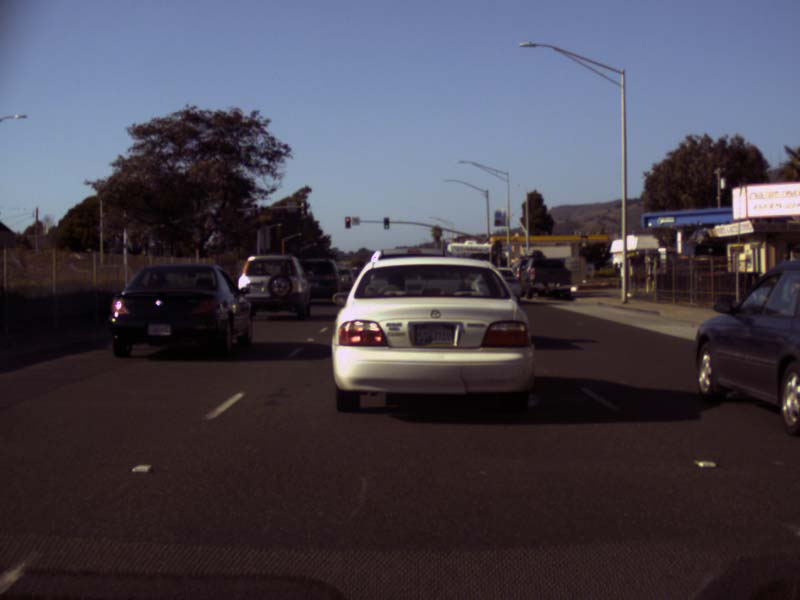Green: (383, 216, 390, 229)
Red: (344, 216, 351, 229)
